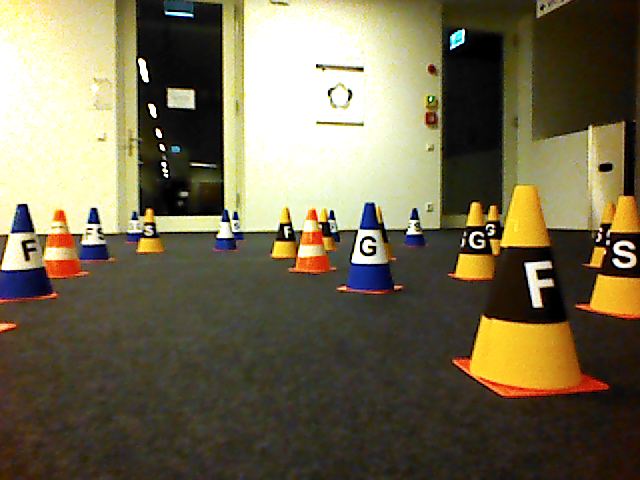bluecone: (338, 203, 403, 297), (1, 202, 49, 304)
yellowcone: (579, 196, 640, 318), (451, 201, 496, 282), (270, 208, 299, 259)
